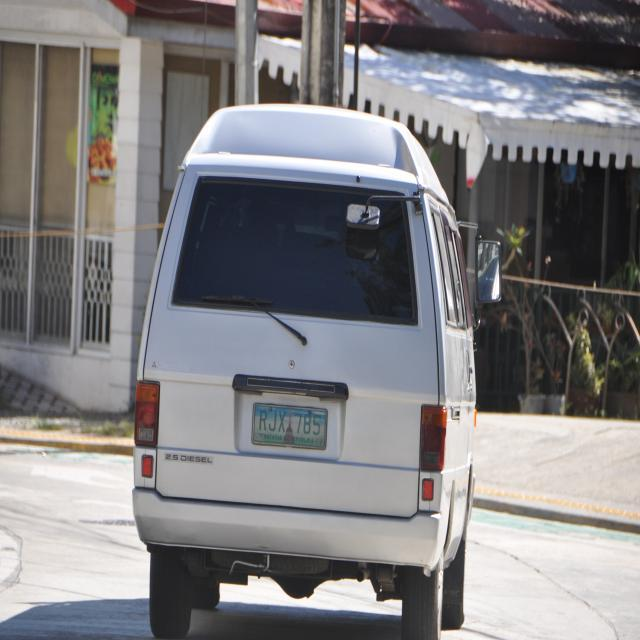LicensePlate: (237, 402, 344, 468)
